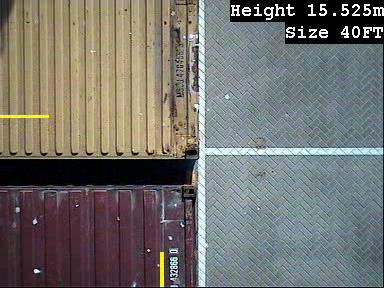groundmarker_2: (195, 109, 257, 196)
